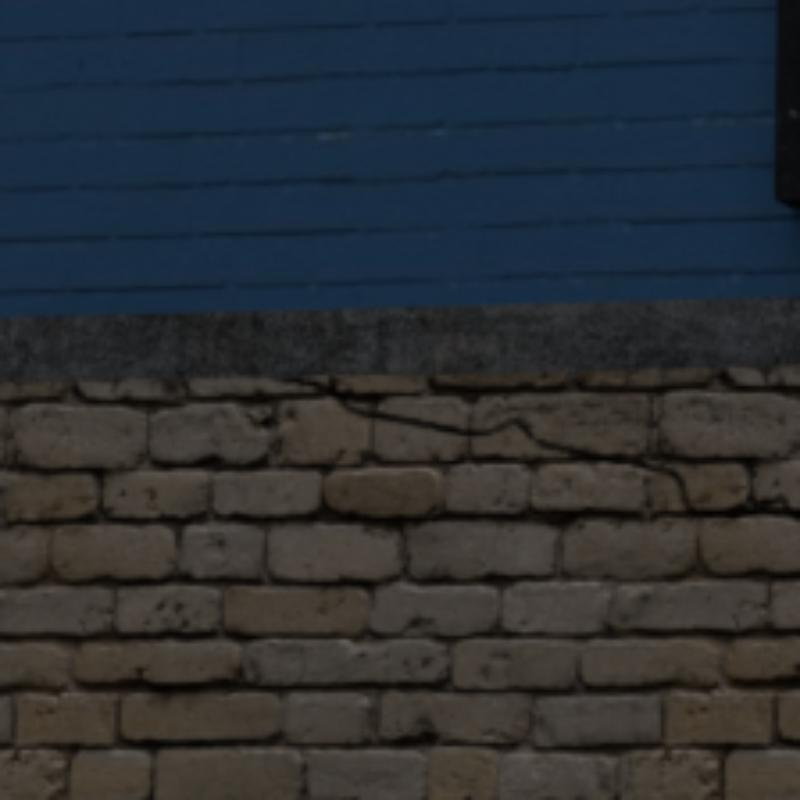pothole: (271, 375, 796, 518)
